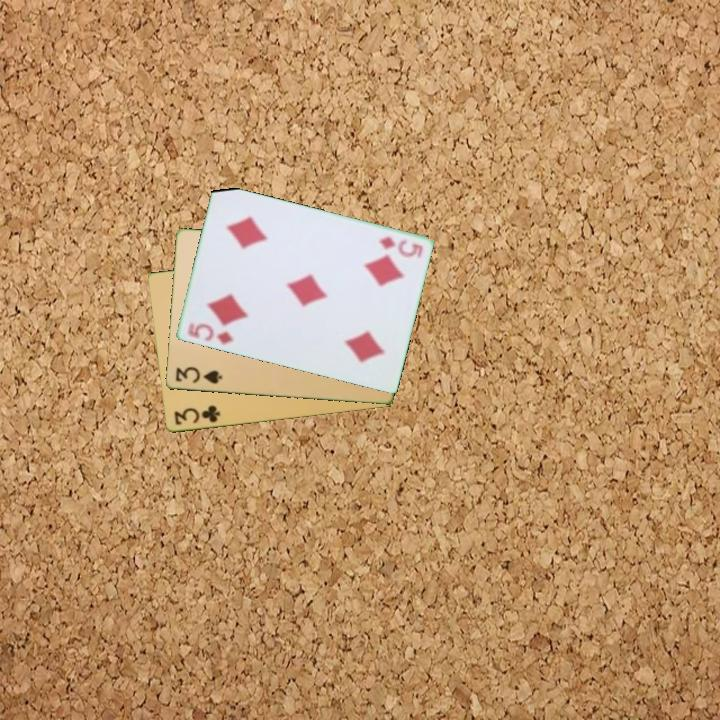3c: (171, 402, 223, 428)
3s: (172, 364, 225, 387)
5d: (183, 320, 236, 348), (374, 234, 425, 261)
